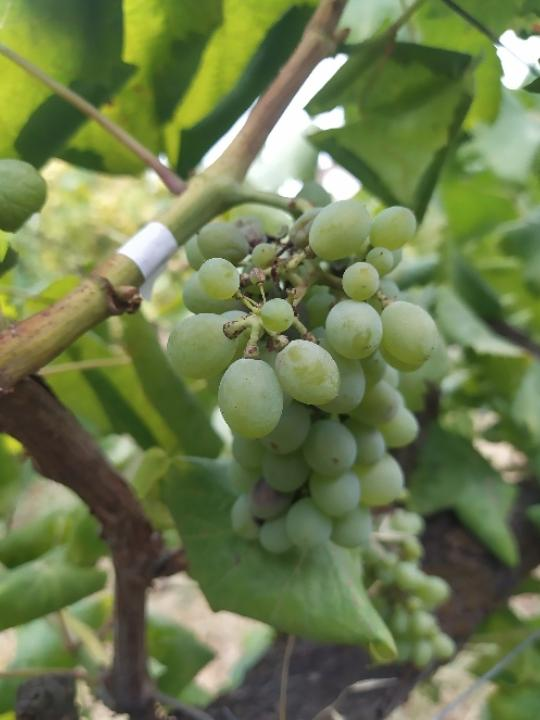grape: (161, 193, 446, 554)
